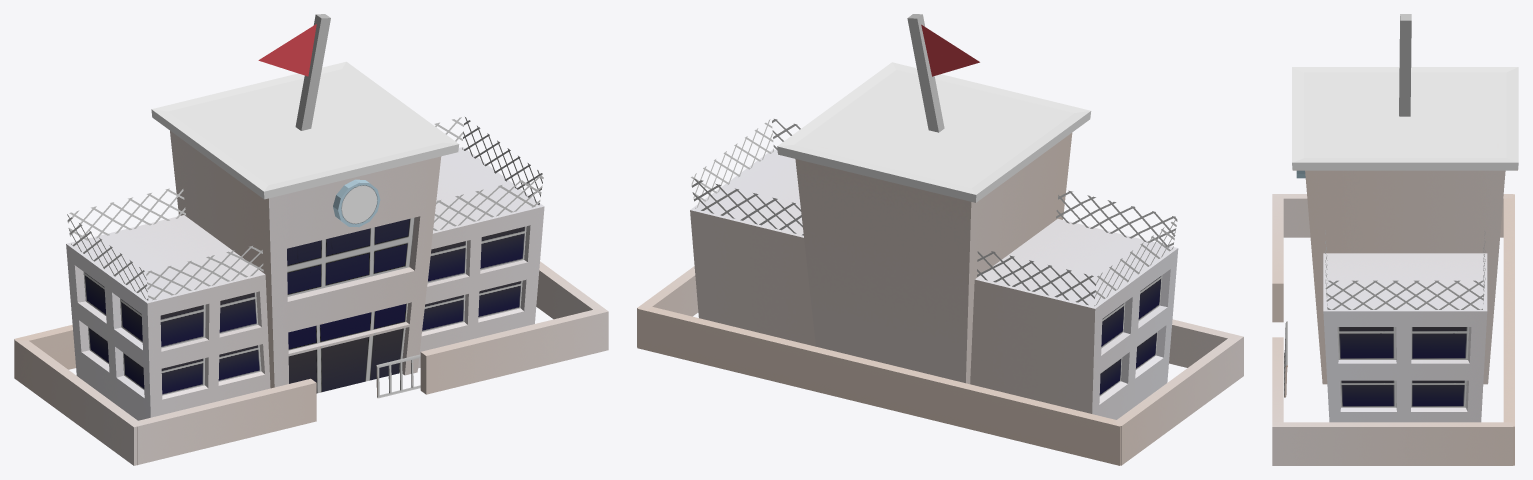
File: school.fbx
The picture shows the model from 3 angles, left to right: view 1: azimuth 30°, elevation 25°; view 2: azimuth 150°, elevation 25°; view 3: azimuth 270°, elevation 25°; orthographic projection. The views are drawn at different scales.
Parts seen in each view (by area): view 1: school, school_door; view 2: school; view 3: school.
Boxes of the visible parts, <box> form: school: <box>14,14,608,465</box>; school_door: <box>376,354,420,398</box>; school: <box>637,14,1243,465</box>; school: <box>1272,14,1518,465</box>.
Size of the model in its own units: 48.34 by 33.06 by 21.59.
Materials: 1 (1 with a texture image).
